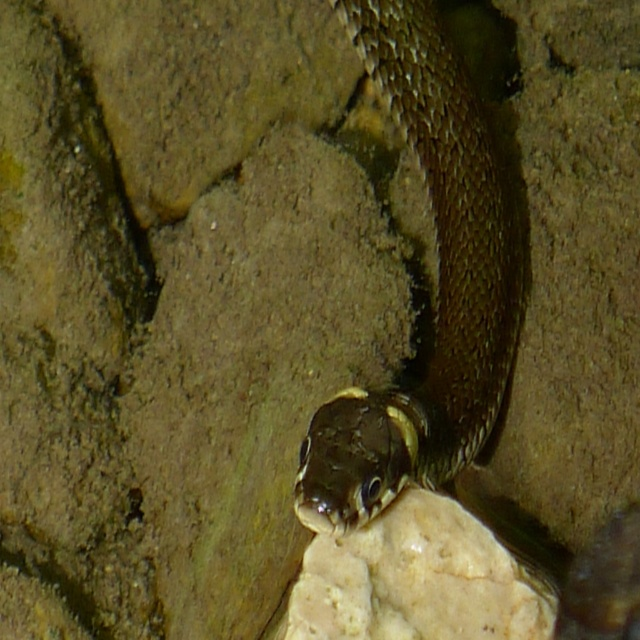Snake: (282, 0, 517, 586)
